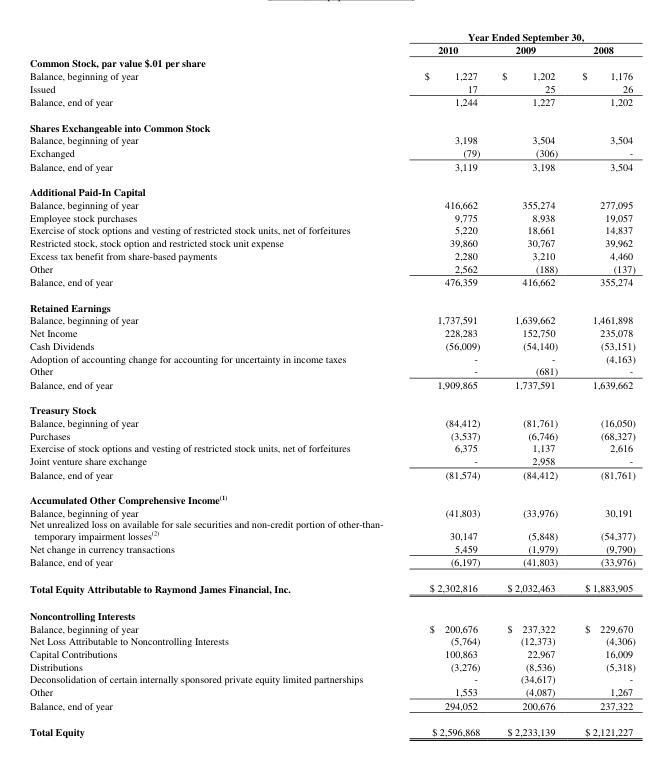table: (28, 29, 634, 738)
table column: (28, 29, 403, 738), (403, 29, 490, 738), (490, 29, 569, 738), (569, 29, 634, 738)
table column header: (28, 29, 634, 56)
table projected row header: (28, 293, 634, 313), (28, 396, 634, 416), (28, 601, 634, 621), (28, 114, 634, 133), (28, 178, 634, 197), (28, 486, 634, 505), (28, 56, 634, 69)
table row: (28, 574, 634, 601), (28, 517, 634, 541), (28, 717, 634, 738), (28, 94, 634, 114), (28, 158, 634, 178), (28, 293, 634, 313), (28, 376, 634, 396), (28, 396, 634, 416), (28, 466, 634, 486), (28, 554, 634, 574), (28, 601, 634, 621), (28, 697, 634, 717), (28, 114, 634, 133), (28, 178, 634, 197), (28, 274, 634, 293), (28, 486, 634, 505), (28, 42, 634, 56), (28, 29, 634, 42), (28, 56, 634, 69), (28, 81, 634, 94), (28, 145, 634, 158), (28, 197, 634, 210), (28, 210, 634, 223), (28, 235, 634, 248), (28, 248, 634, 261), (28, 261, 634, 274), (28, 325, 634, 338), (28, 338, 634, 351), (28, 363, 634, 376), (28, 428, 634, 441), (28, 453, 634, 466), (28, 541, 634, 554), (28, 633, 634, 646), (28, 646, 634, 659), (28, 659, 634, 672), (28, 684, 634, 697), (28, 69, 634, 81), (28, 133, 634, 145), (28, 223, 634, 235), (28, 313, 634, 325), (28, 351, 634, 363), (28, 416, 634, 428), (28, 441, 634, 453), (28, 505, 634, 517), (28, 621, 634, 633), (28, 672, 634, 684)
table spanning cell: (403, 29, 634, 42)
